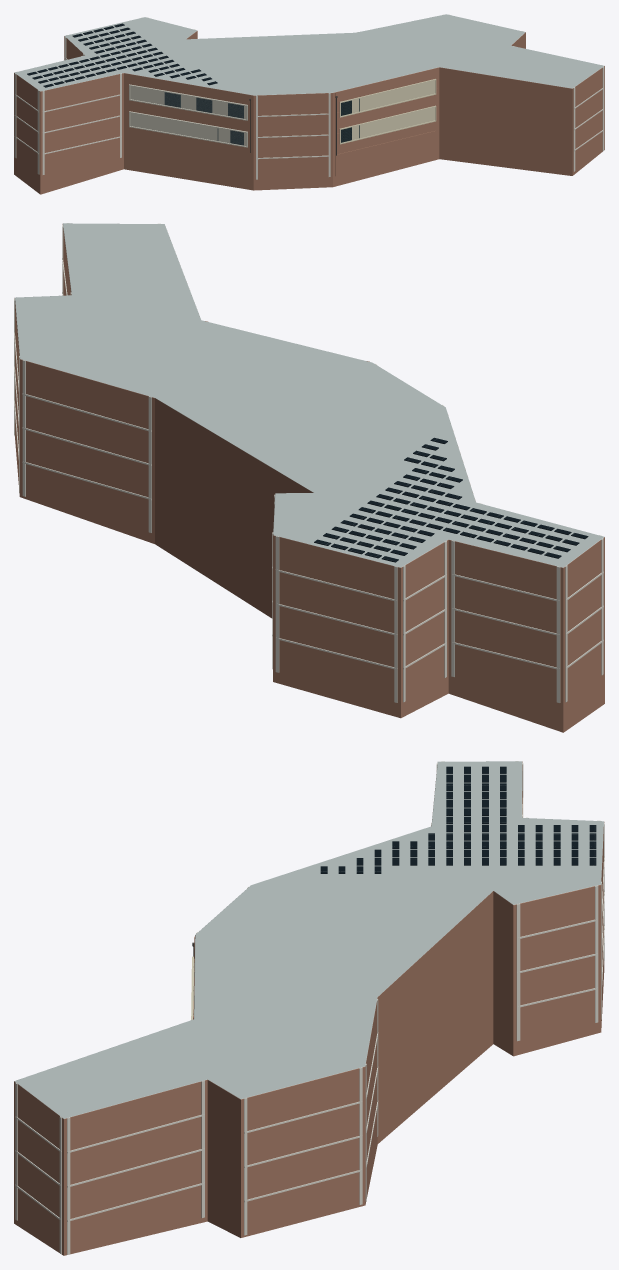
File: fragments.glb
3 views of the same model, one above another, from view 1: azimuth 30°, elevation 25°; view 2: azimuth 150°, elevation 25°; view 3: azimuth 270°, elevation 25° (orthographic). The views are drawn at different scales.
Parts seen in each view (by area): view 1: SM_468931898_Fragment_005, SM_468931898_Fragment_012, SM_468931898_Fragment_008, SM_468931898_Fragment_020, SM_468931898_Fragment_033, SM_468931898_Fragment_024, SM_468931898_Fragment_016, SM_468931898_Fragment_032, SM_468931898_Fragment_009, SM_468931898_Fragment_045, SM_468931898_Fragment_048, SM_468931898_Fragment_017 (+28 smaller); view 2: SM_468931898_Fragment_005, SM_468931898_Fragment_057, SM_468931898_Fragment_030, SM_468931898_Fragment_013, SM_468931898_Fragment_059, SM_468931898_Fragment_014, SM_468931898_Fragment_021, SM_468931898_Fragment_055, SM_468931898_Fragment_060, SM_468931898_Fragment_054, SM_468931898_Fragment_000, SM_468931898_Fragment_062 (+25 smaller); view 3: SM_468931898_Fragment_015, SM_468931898_Fragment_037, SM_468931898_Fragment_004, SM_468931898_Fragment_018, SM_468931898_Fragment_010, SM_468931898_Fragment_022, SM_468931898_Fragment_041, SM_468931898_Fragment_021, SM_468931898_Fragment_000, SM_468931898_Fragment_013, SM_468931898_Fragment_060, SM_468931898_Fragment_043 (+23 smaller).
Part boxes in pixels (left/top/right/bottom): SM_468931898_Fragment_005: left=14, top=65, right=69, bottom=172; SM_468931898_Fragment_012: left=484, top=59, right=575, bottom=126; SM_468931898_Fragment_008: left=331, top=56, right=436, bottom=129; SM_468931898_Fragment_020: left=14, top=124, right=117, bottom=194; SM_468931898_Fragment_033: left=129, top=111, right=247, bottom=183; SM_468931898_Fragment_024: left=252, top=105, right=328, bottom=189; SM_468931898_Fragment_016: left=129, top=60, right=247, bottom=122; SM_468931898_Fragment_032: left=290, top=76, right=377, bottom=155; SM_468931898_Fragment_009: left=523, top=102, right=600, bottom=175; SM_468931898_Fragment_045: left=196, top=73, right=279, bottom=152; SM_468931898_Fragment_048: left=68, top=72, right=143, bottom=133; SM_468931898_Fragment_017: left=339, top=100, right=451, bottom=168; SM_468931898_Fragment_005: left=508, top=525, right=604, bottom=728; SM_468931898_Fragment_057: left=425, top=569, right=541, bottom=696; SM_468931898_Fragment_030: left=323, top=606, right=435, bottom=718; SM_468931898_Fragment_013: left=102, top=347, right=234, bottom=455; SM_468931898_Fragment_059: left=327, top=535, right=428, bottom=621; SM_468931898_Fragment_014: left=413, top=500, right=536, bottom=597; SM_468931898_Fragment_021: left=160, top=394, right=250, bottom=526; SM_468931898_Fragment_055: left=272, top=569, right=340, bottom=695; SM_468931898_Fragment_060: left=220, top=412, right=320, bottom=527; SM_468931898_Fragment_054: left=32, top=337, right=144, bottom=437; SM_468931898_Fragment_000: left=295, top=384, right=425, bottom=447; SM_468931898_Fragment_062: left=19, top=404, right=121, bottom=503; SM_468931898_Fragment_015: left=16, top=1085, right=158, bottom=1224; SM_468931898_Fragment_037: left=168, top=1130, right=296, bottom=1237; SM_468931898_Fragment_004: left=465, top=871, right=582, bottom=1002; SM_468931898_Fragment_018: left=139, top=1055, right=280, bottom=1142; SM_468931898_Fragment_010: left=259, top=1045, right=367, bottom=1148; SM_468931898_Fragment_022: left=286, top=1124, right=368, bottom=1226; SM_468931898_Fragment_041: left=53, top=1183, right=183, bottom=1255; SM_468931898_Fragment_021: left=337, top=953, right=432, bottom=1061; SM_468931898_Fragment_000: left=223, top=886, right=380, bottom=935; SM_468931898_Fragment_013: left=262, top=974, right=384, bottom=1080; SM_468931898_Fragment_060: left=349, top=915, right=460, bottom=1024; SM_468931898_Fragment_043: left=402, top=829, right=519, bottom=889.
Size of the model in its own units: 2.2 by 0.4835 by 1.53.
12 materials, 3 textured.
